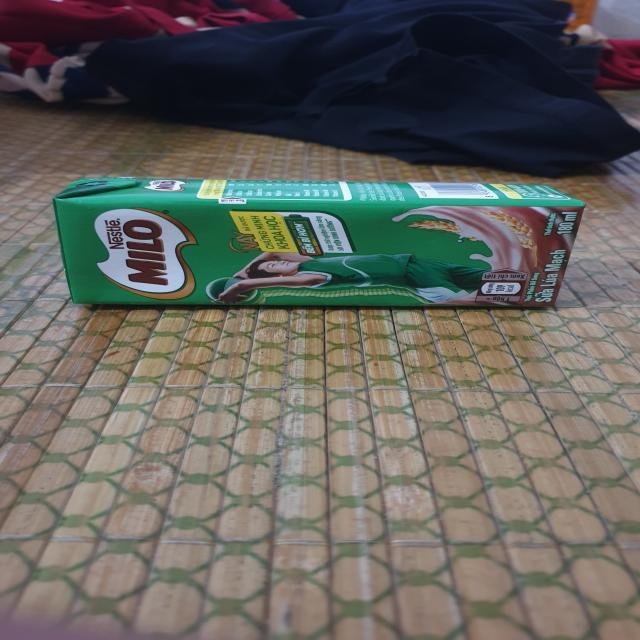Milo: (57, 181, 591, 311)
